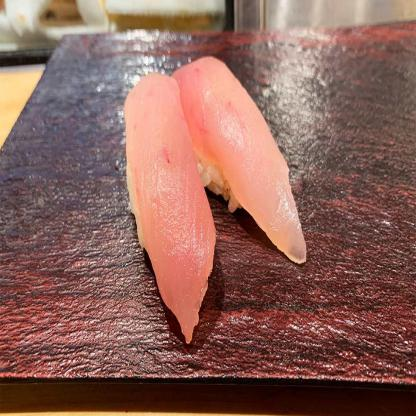hamachi: (120, 69, 222, 345)
